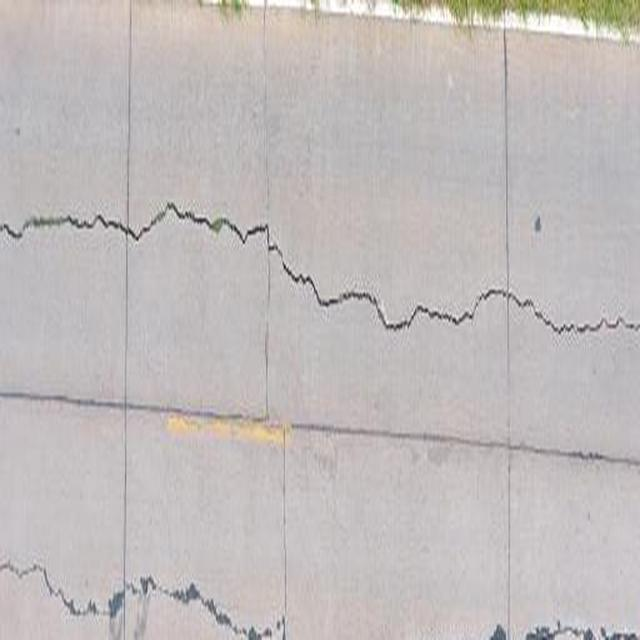Crack: (0, 147, 640, 376), (9, 525, 272, 640)
